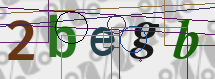2: (4, 15, 39, 67)
b: (42, 10, 79, 63), (171, 16, 203, 63)
e: (87, 22, 118, 61)
g: (126, 19, 162, 65)
